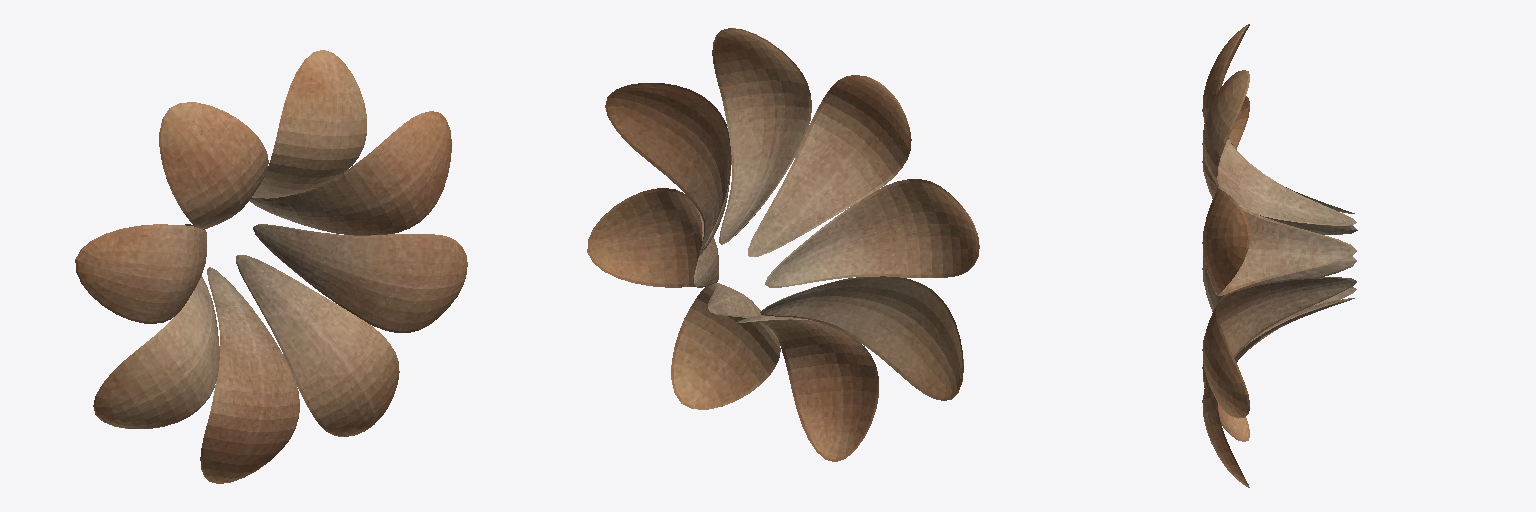
3 views of the same model, side by side, from view 1: azimuth 30°, elevation 25°; view 2: azimuth 150°, elevation 25°; view 3: azimuth 270°, elevation 25° (orthographic).
Visible parts, largest first — view 1: AppleCaylx; view 2: AppleCaylx; view 3: AppleCaylx.
Boxes of the visible parts, x1=… form: AppleCaylx: x1=75, y1=50, x2=467, y2=483; AppleCaylx: x1=587, y1=28, x2=979, y2=461; AppleCaylx: x1=1202, y1=24, x2=1357, y2=487.
Bounding box in the file's own units: 0.0052 × 0.0052 × 0.0018.
1 materials, 1 textured.